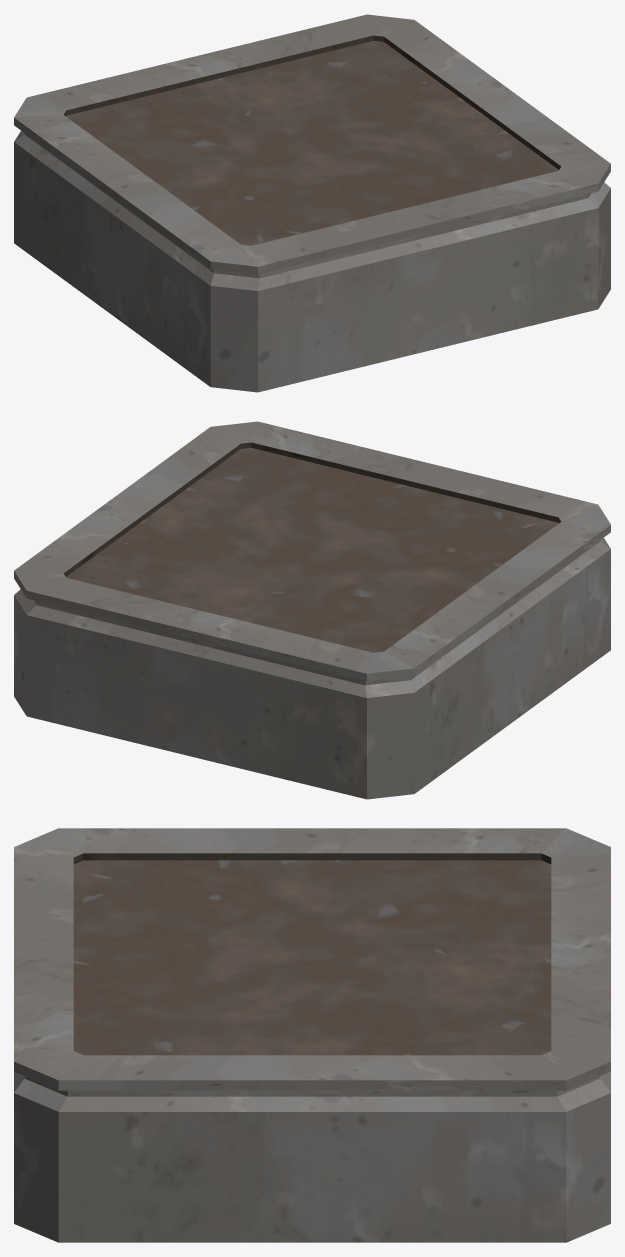
Rendered from Prop_Planter_Single.glb.
3 renders of one model, top to bottom at view 1: azimuth 30°, elevation 25°; view 2: azimuth 150°, elevation 25°; view 3: azimuth 270°, elevation 25°, orthographic. The views are drawn at different scales.
Parts seen in each view (by area): view 1: Cube016, Cube016_1; view 2: Cube016, Cube016_1; view 3: Cube016, Cube016_1.
Boxes of the visible parts, <box> form: Cube016: <box>14,14,610,392</box>; Cube016_1: <box>66,40,558,245</box>; Cube016: <box>14,421,610,799</box>; Cube016_1: <box>66,447,558,652</box>; Cube016: <box>14,828,610,1242</box>; Cube016_1: <box>73,860,551,1055</box>.
Bounding box in the file's own units: 2 × 0.6 × 2.
Materials: 2 (2 with a texture image).
